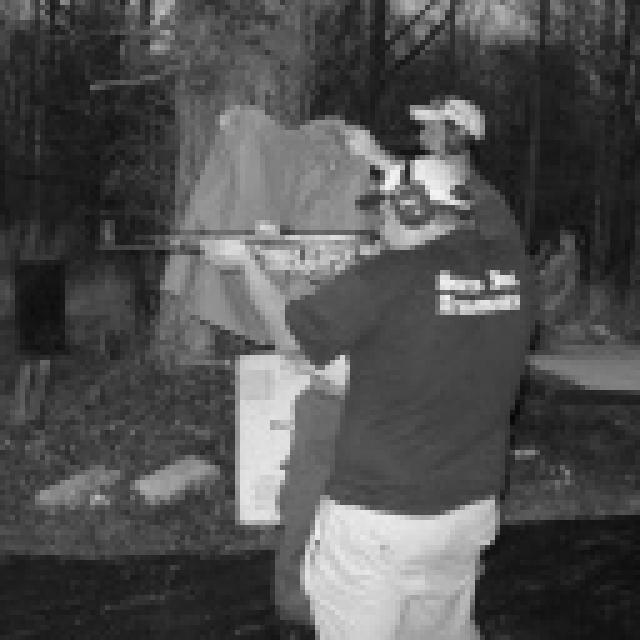Rifle: (81, 202, 450, 294)
